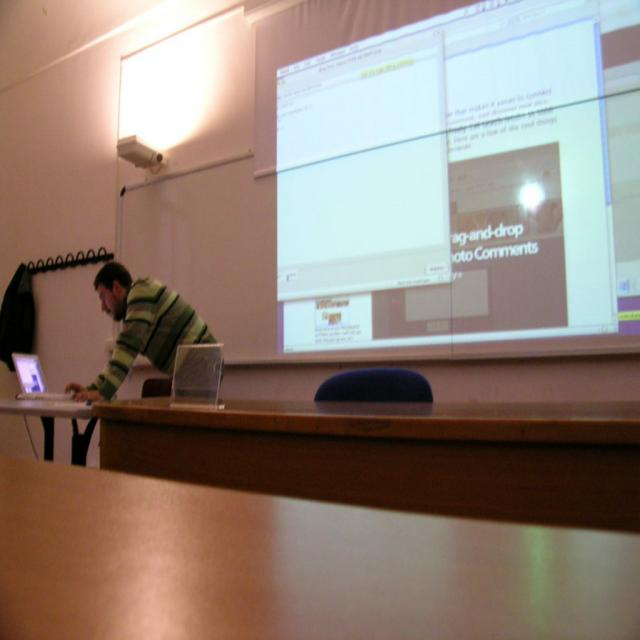desk: (0, 452, 639, 638)
laptop: (169, 343, 225, 410), (12, 353, 84, 404)
person: (64, 261, 220, 403)
tv: (254, 2, 637, 371)
